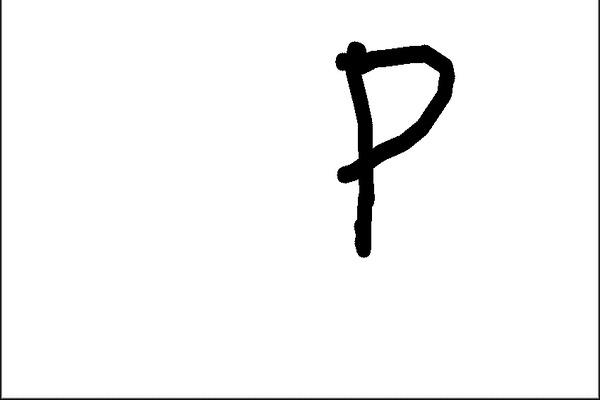P: (323, 33, 471, 260)
